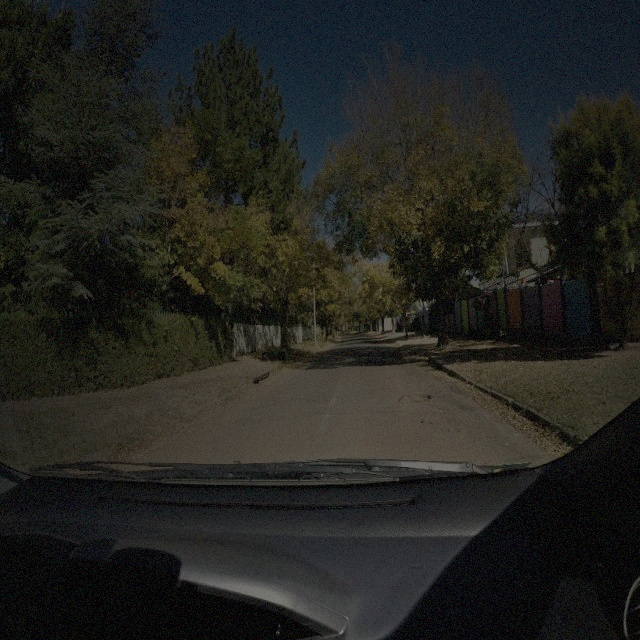pothole: (394, 392, 433, 403)
